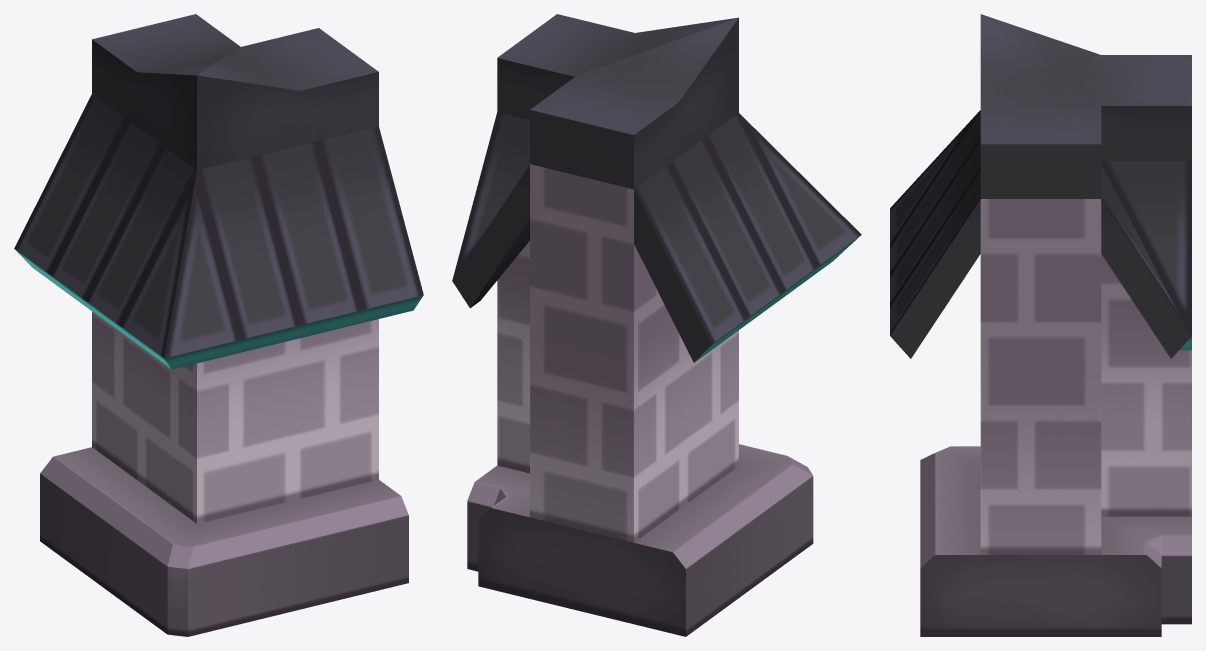
The model's file is Wall_01.FBX.
3 views of the same model, side by side, from view 1: azimuth 30°, elevation 25°; view 2: azimuth 150°, elevation 25°; view 3: azimuth 270°, elevation 25° (orthographic).
Visible parts, largest first — view 1: Wall_01; view 2: Wall_01; view 3: Wall_01.
Boxes of the visible parts, x1=… form: Wall_01: x1=14, y1=14, x2=423, y2=636; Wall_01: x1=452, y1=14, x2=861, y2=636; Wall_01: x1=890, y1=14, x2=1191, y2=636.
Size of the model in its own units: 100 by 195 by 100.
